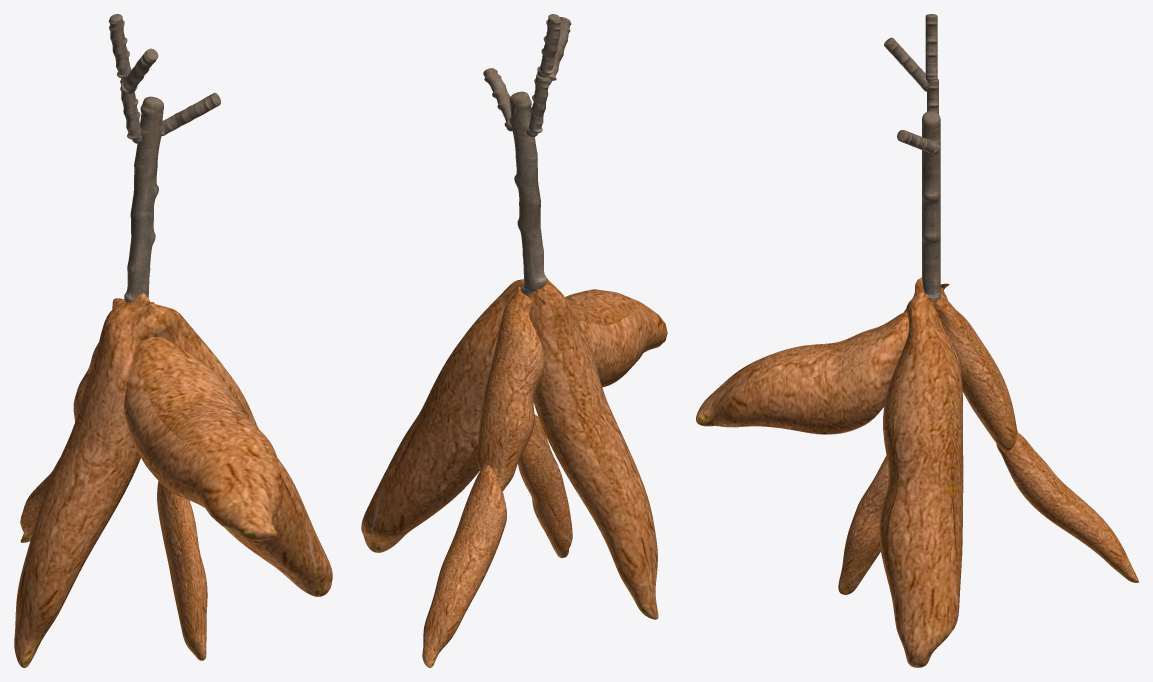
The model's file is casava_harvest.glb.
3 renders of one model, left to right at view 1: azimuth 30°, elevation 25°; view 2: azimuth 150°, elevation 25°; view 3: azimuth 270°, elevation 25°, orthographic. The views are drawn at different scales.
Parts seen in each view (by area): view 1: Plane.001, Plane.004, Plane.005, Plane.003, Plane, Plane.002, Plane.009, Plane.008, Plane.180, Plane.007; view 2: Plane.004, Plane.005, Plane.006, Plane.009, Plane.001, Plane, Plane.003, Plane.002, Plane.180, Plane.008, Plane.007; view 3: Plane.005, Plane.001, Plane.009, Plane.006, Plane.003, Plane, Plane.002, Plane.007.
Part boxes in pixels (x1,y1,x2,y2): Plane.001: (124,336,283,540); Plane.004: (14,293,152,667); Plane.005: (112,298,332,596); Plane.003: (157,481,207,660); Plane: (124,96,163,302); Plane.002: (108,14,131,80); Plane.009: (20,458,59,542); Plane.008: (161,92,220,135); Plane.180: (120,78,142,143); Plane.007: (121,48,158,94); Plane.004: (528,275,658,619); Plane.005: (361,279,545,552); Plane.006: (476,286,544,490); Plane.009: (422,465,506,667); Plane.001: (565,289,667,387); Plane: (509,91,546,296); Plane.003: (518,414,572,558); Plane.002: (537,14,561,77); Plane.180: (526,74,549,137); Plane.008: (483,68,512,131); Plane.007: (547,17,571,85); Plane.005: (879,283,963,667); Plane.001: (696,311,909,434); Plane.009: (996,432,1138,582); Plane.006: (930,297,1017,451); Plane.003: (838,455,888,594); Plane: (922,111,940,300); Plane.002: (925,14,937,80); Plane.007: (884,37,928,91).
Size of the model in its own units: 6.56 by 12.55 by 8.89.
5 materials, 4 textured.
